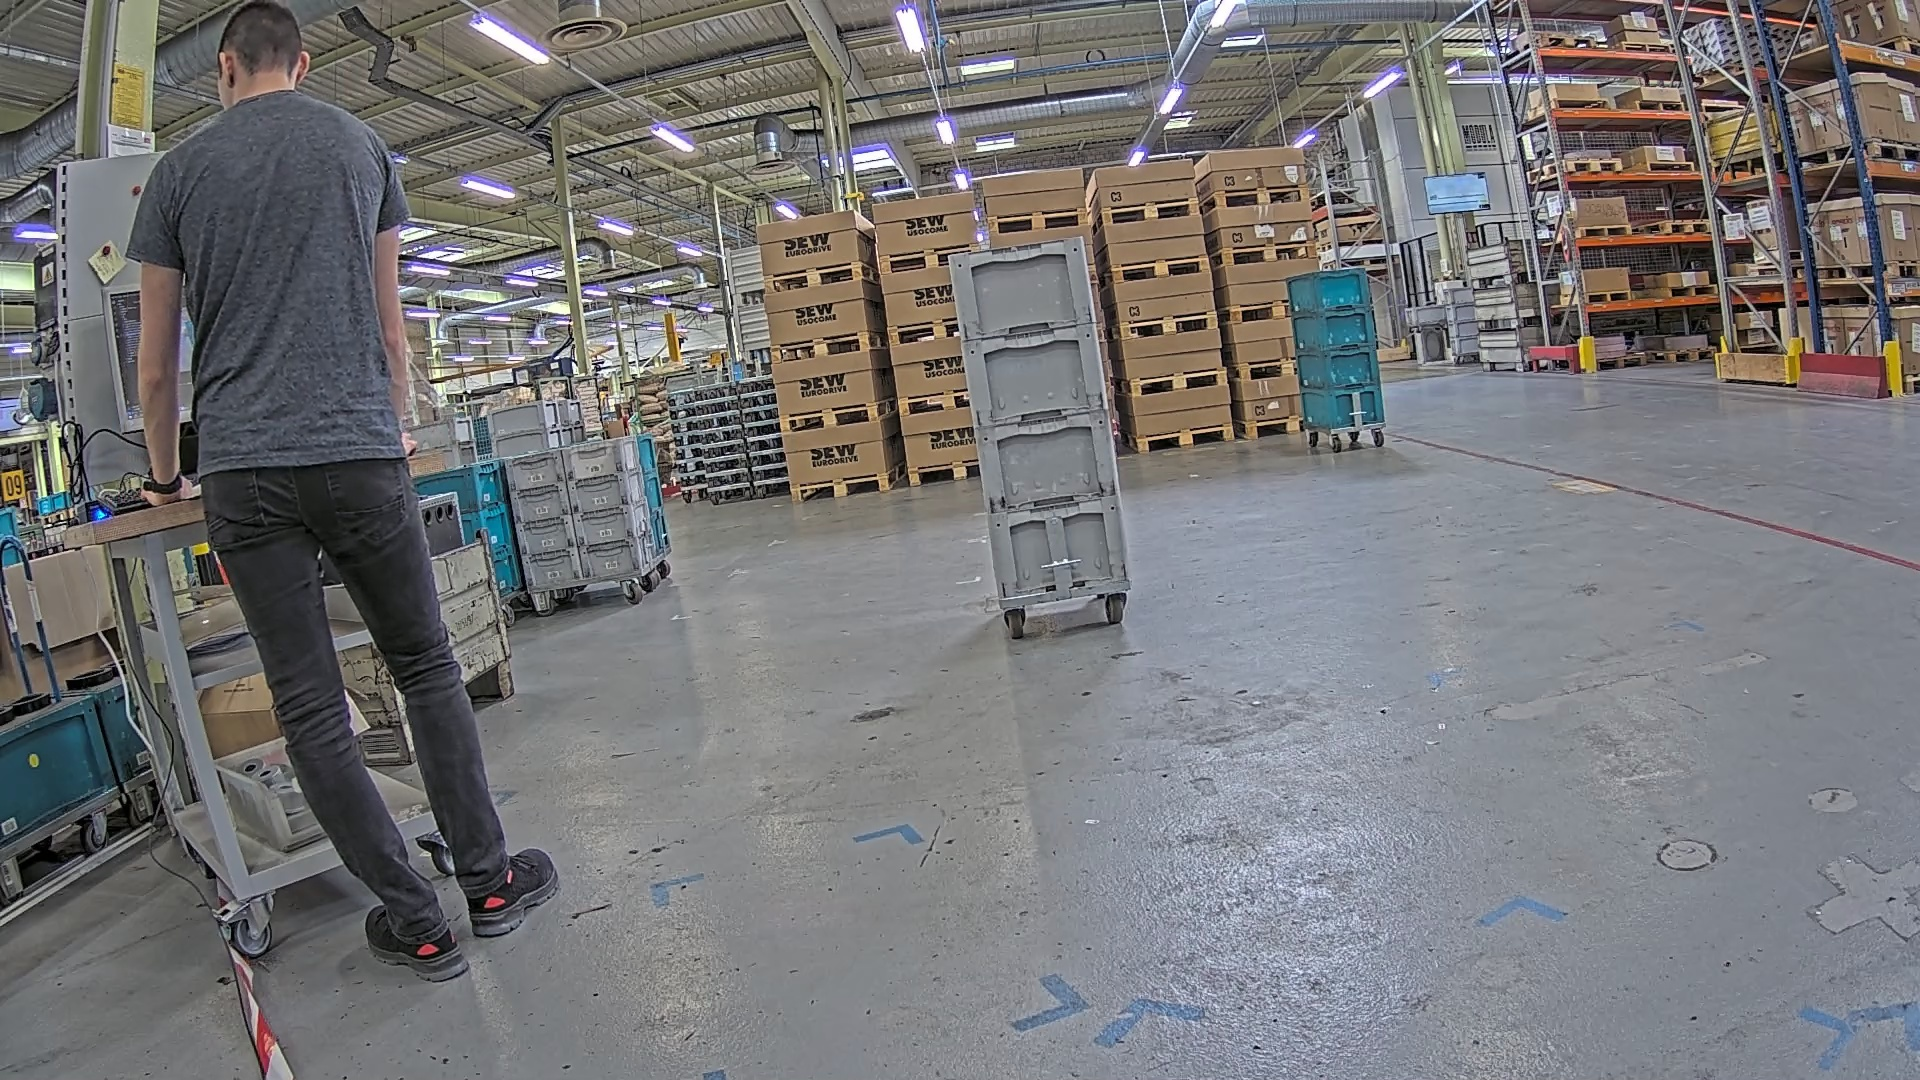4G: (942, 232, 1134, 603)
B4: (1312, 268, 1386, 430)
